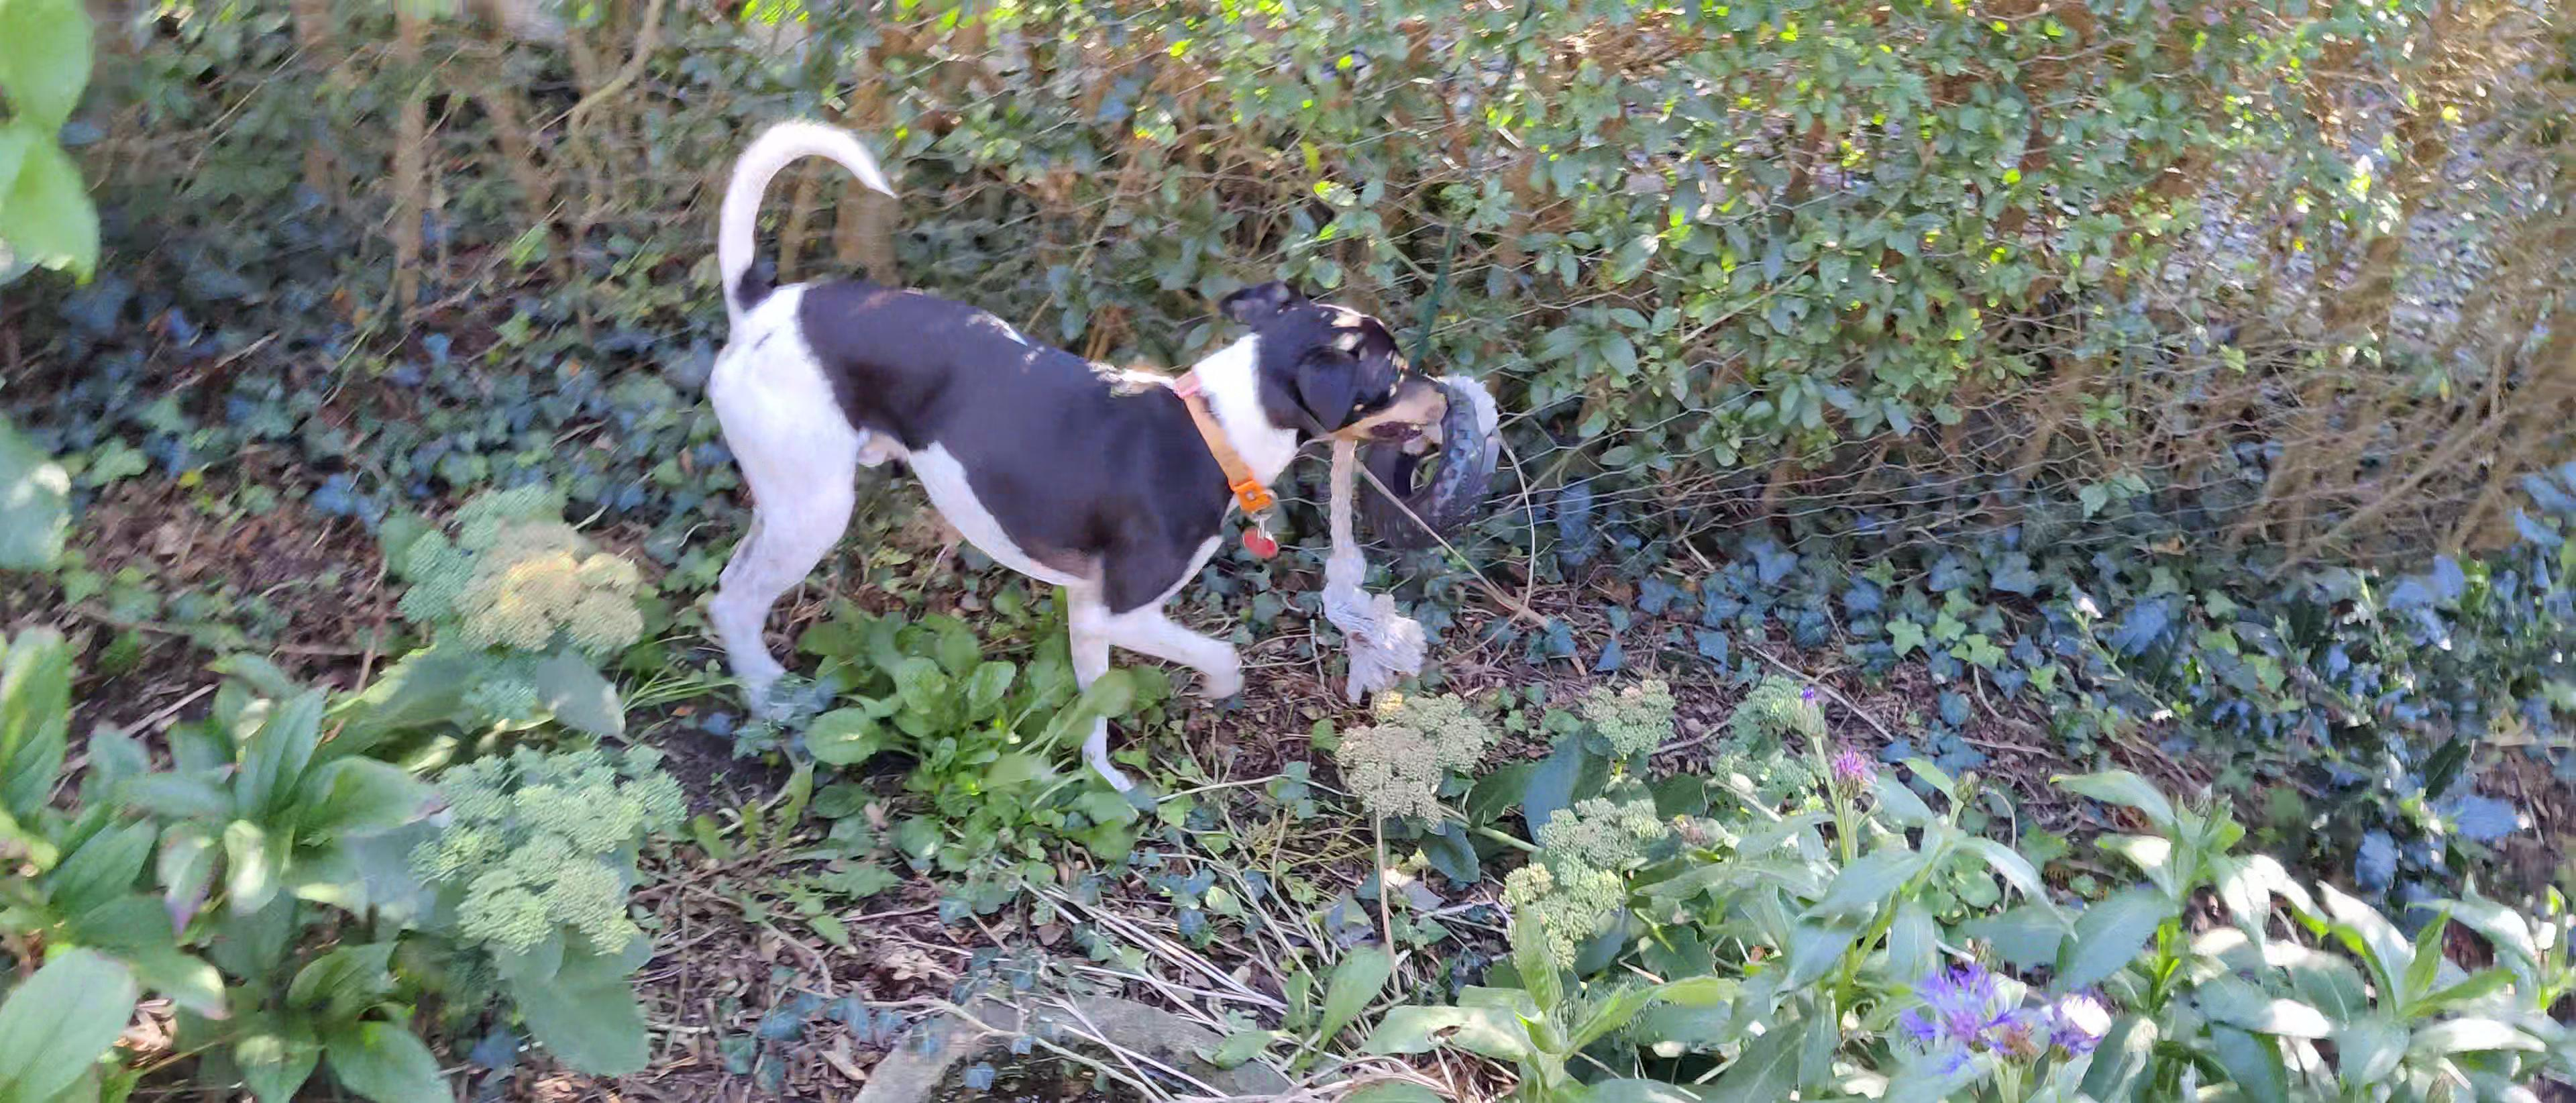Dog: (703, 112, 1457, 802)
